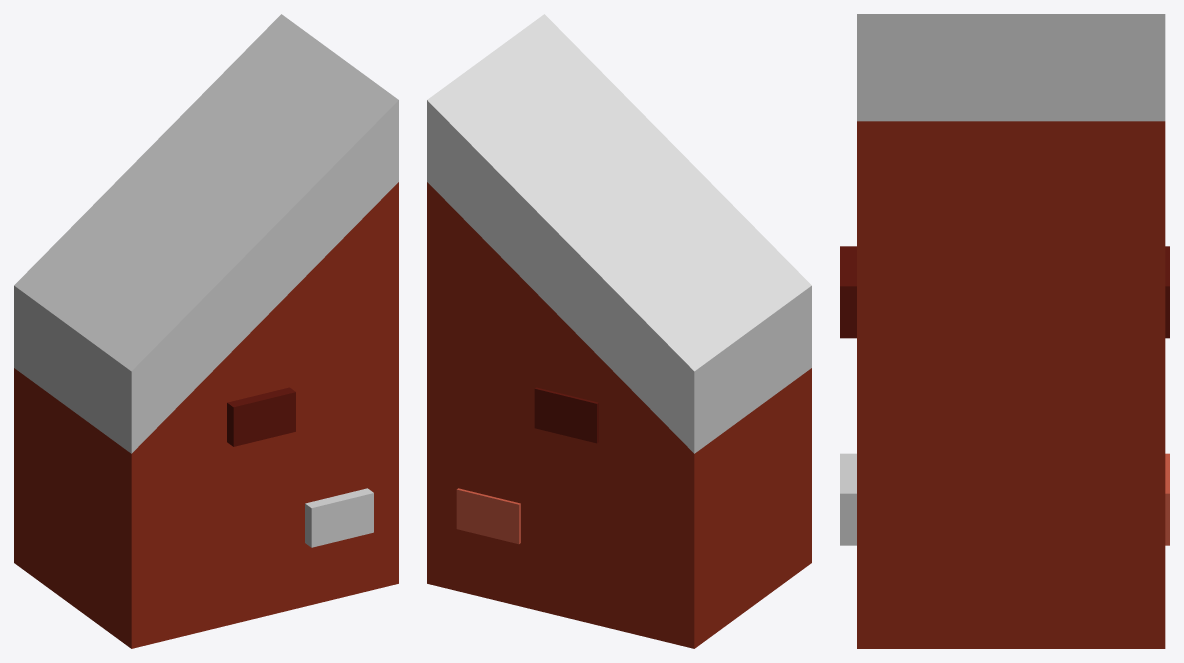
File: wall3.FBX
3 views of the same model, side by side, from view 1: azimuth 30°, elevation 25°; view 2: azimuth 150°, elevation 25°; view 3: azimuth 270°, elevation 25° (orthographic). The views are drawn at different scales.
Parts seen in each view (by area): view 1: Wall3; view 2: Wall3; view 3: Wall3.
Boxes of the visible parts, box(x1,y1,x2,y2) form: Wall3: box(14, 14, 398, 648); Wall3: box(427, 14, 811, 648); Wall3: box(840, 14, 1169, 648).
Size of the model in its own units: 23.1 by 39.93 by 18.79.
